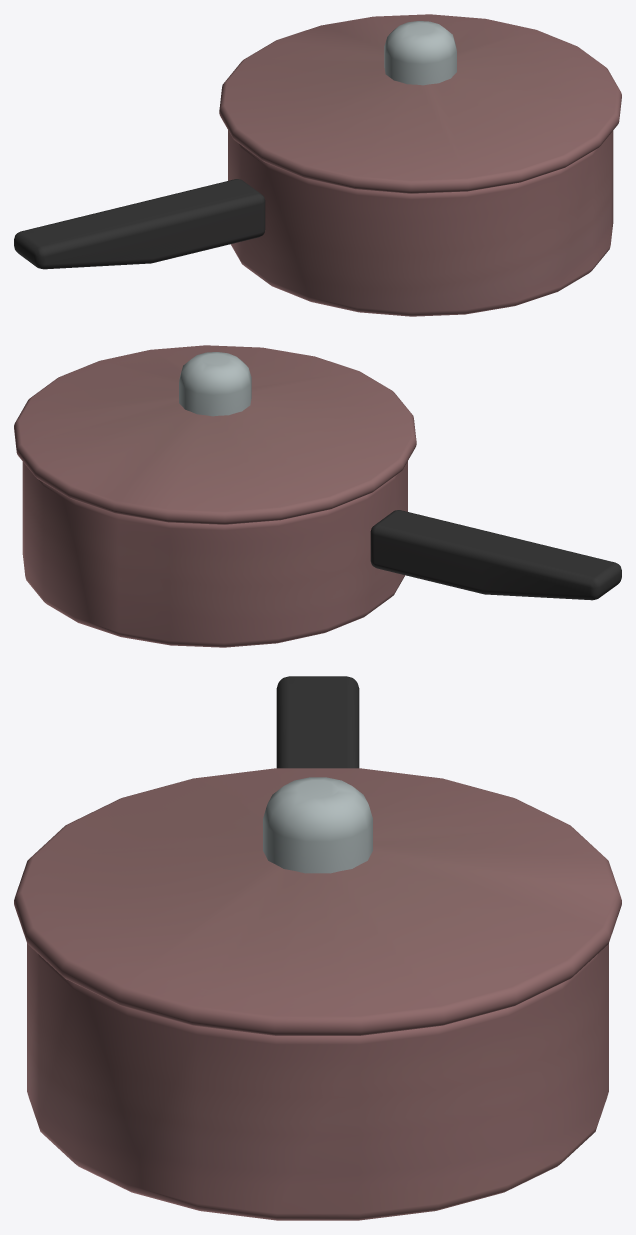
File: Pan.fbx
3 renders of one model, top to bottom at view 1: azimuth 30°, elevation 25°; view 2: azimuth 150°, elevation 25°; view 3: azimuth 270°, elevation 25°, orthographic. The views are drawn at different scales.
Parts seen in each view (by area): view 1: Cylinder.015, Cylinder.016; view 2: Cylinder.015, Cylinder.016; view 3: Cylinder.016, Cylinder.015.
Boxes of the visible parts, <box> form: Cylinder.015: <box>14,130,613,316</box>; Cylinder.016: <box>219,14,621,193</box>; Cylinder.015: <box>22,461,621,647</box>; Cylinder.016: <box>14,345,416,524</box>; Cylinder.016: <box>14,768,621,1035</box>; Cylinder.015: <box>27,676,608,1220</box>.
Size of the model in its own units: 6.4 by 2.24 by 3.94.
